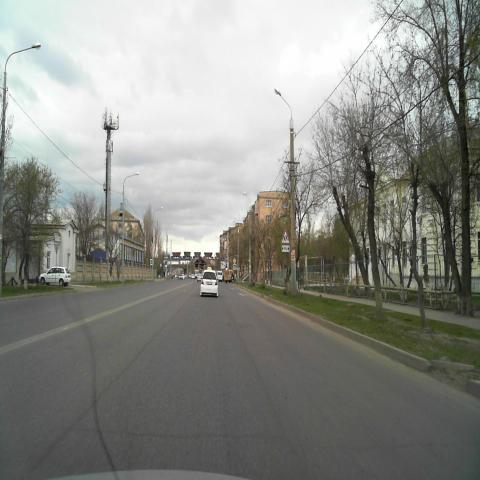1_23: (281, 228, 290, 244)
8_2_1: (282, 245, 290, 253)
